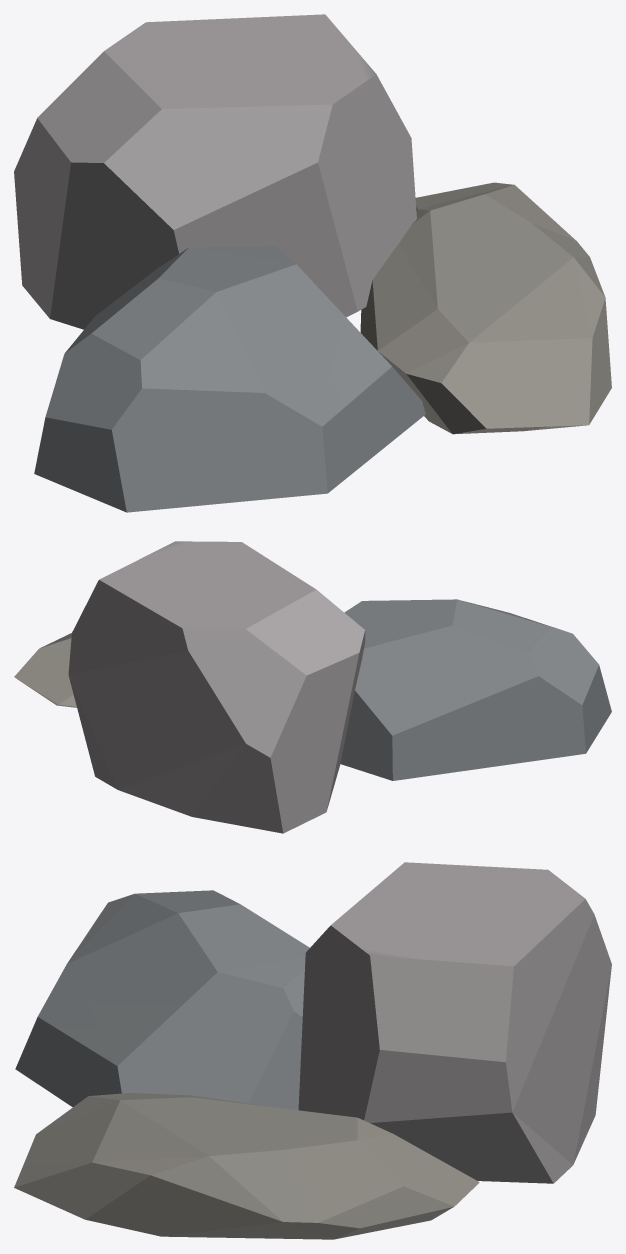
The model's file is Rocks_Round_m_01.fbx.
3 views of the same model, one above another, from view 1: azimuth 30°, elevation 25°; view 2: azimuth 150°, elevation 25°; view 3: azimuth 270°, elevation 25° (orthographic). The views are drawn at different scales.
Visible parts, largest first — view 1: Rocks_Round_m_01; view 2: Rocks_Round_m_01; view 3: Rocks_Round_m_01.
Boxes of the visible parts, x1,y1,x2,y2 form: Rocks_Round_m_01: [14, 14, 611, 512]; Rocks_Round_m_01: [14, 541, 611, 833]; Rocks_Round_m_01: [14, 862, 611, 1239].
Bounding box in the file's own units: 197 × 74.28 × 174.
